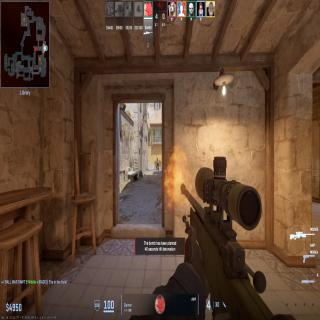T-Body: (156, 158, 159, 171)
T-Head: (157, 158, 158, 161)
